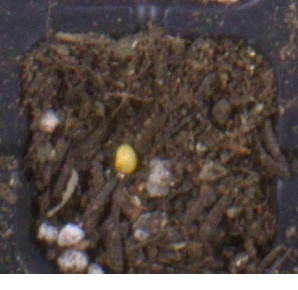chilli seed: (112, 143, 138, 175)
